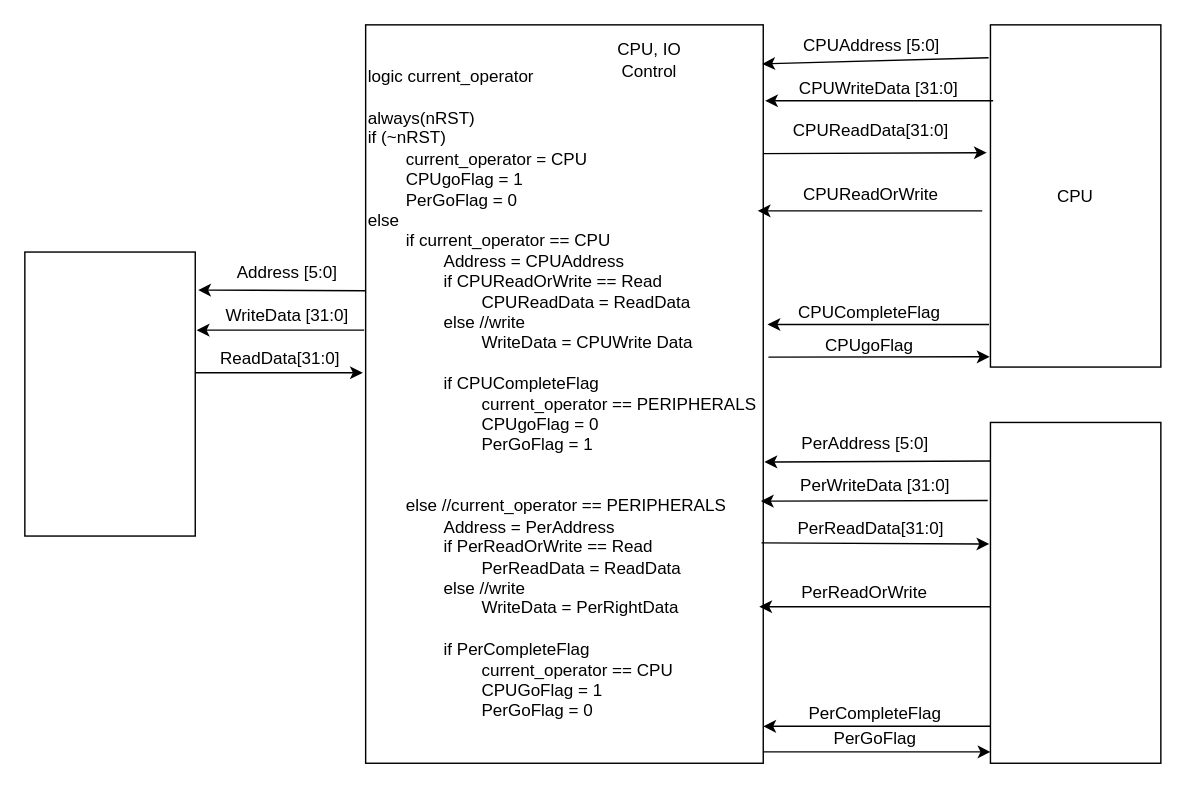
The diagram is 1186 pixels wide and 788 high, and some of its shapes have lost their labels. The shapes that lost their labels are listed below. From the top down, each one's centre as x and y in pixels, then its label:
At (x=109, y=393): "Memory".
At (x=1075, y=592): "Peripherals".
